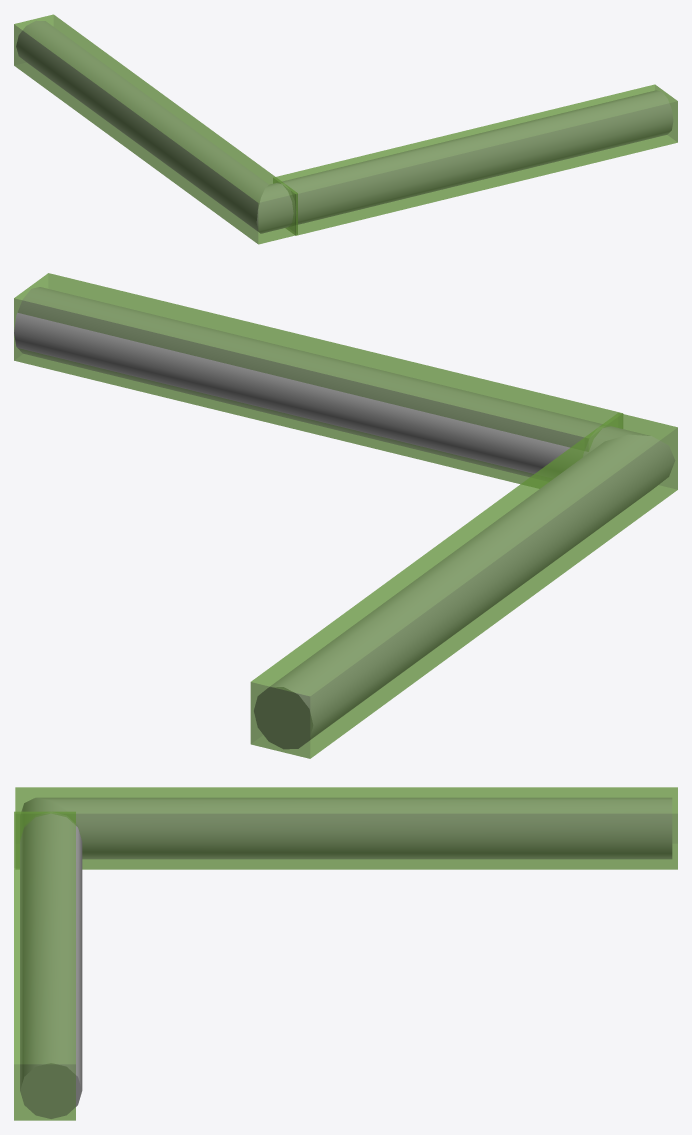
File: M_md_StallBeam1_50cm_02.fbx
The picture shows the model from 3 angles, top to bottom: view 1: azimuth 30°, elevation 25°; view 2: azimuth 150°, elevation 25°; view 3: azimuth 270°, elevation 25°; orthographic projection. The views are drawn at different scales.
Visible parts, largest first — view 1: M_md_StallBeam1_50cm_02_LOD0, M_md_StallBeam1_50cm_02_col_02, M_md_StallBeam1_50cm_02_col_01; view 2: M_md_StallBeam1_50cm_02_LOD0, M_md_StallBeam1_50cm_02_col_01, M_md_StallBeam1_50cm_02_col_02; view 3: M_md_StallBeam1_50cm_02_LOD0, M_md_StallBeam1_50cm_02_col_01, M_md_StallBeam1_50cm_02_col_02.
Boxes of the visible parts, x1,y1,x2,y2 form: M_md_StallBeam1_50cm_02_LOD0: (16, 20, 673, 233); M_md_StallBeam1_50cm_02_col_02: (273, 84, 677, 235); M_md_StallBeam1_50cm_02_col_01: (14, 14, 297, 244); M_md_StallBeam1_50cm_02_LOD0: (14, 287, 675, 749); M_md_StallBeam1_50cm_02_col_01: (250, 413, 677, 758); M_md_StallBeam1_50cm_02_col_02: (14, 273, 623, 488); M_md_StallBeam1_50cm_02_LOD0: (20, 797, 672, 1118); M_md_StallBeam1_50cm_02_col_01: (15, 787, 677, 869); M_md_StallBeam1_50cm_02_col_02: (14, 811, 75, 1120).
Size of what is drawn, in the model's own units: 52.79 by 5 by 53.45.
